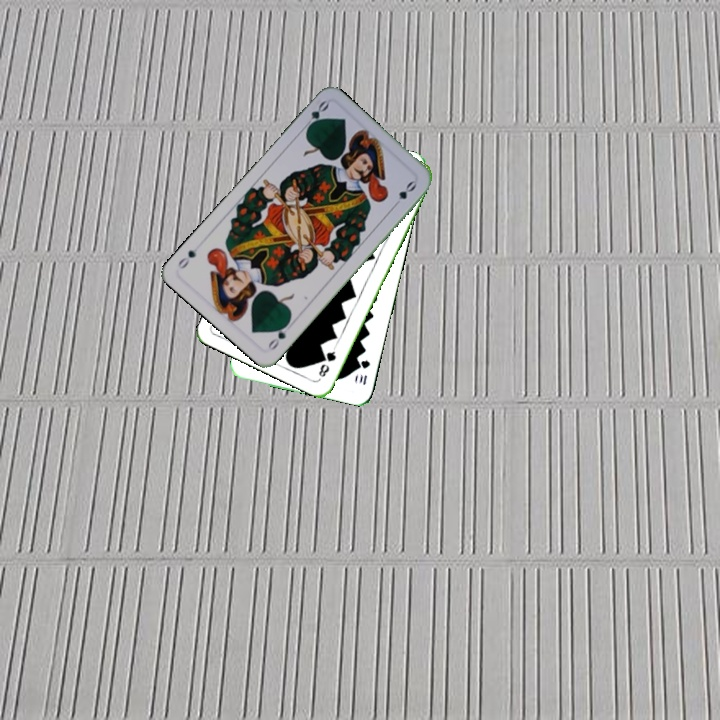G10: (355, 356, 373, 387)
G8: (315, 343, 339, 380)
GO: (299, 97, 331, 133), (264, 317, 295, 353)
